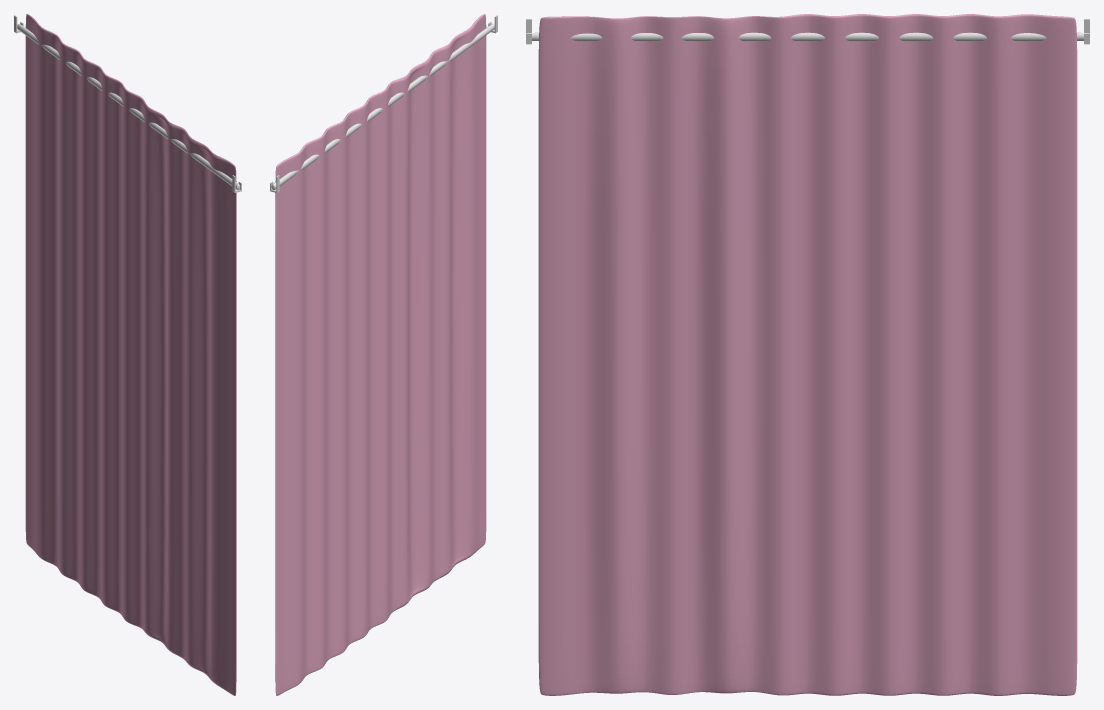
File: Curtain.fbx
3 renders of one model, left to right at view 1: azimuth 30°, elevation 25°; view 2: azimuth 150°, elevation 25°; view 3: azimuth 270°, elevation 25°, orthographic. The views are drawn at different scales.
Visible parts, largest first — view 1: Plane.002, Cylinder; view 2: Plane.002, Cylinder; view 3: Plane.002, Cylinder.
Boxes of the visible parts, x1,y1,x2,y2 form: Plane.002: [25, 14, 236, 695]; Cylinder: [17, 24, 240, 189]; Plane.002: [275, 14, 486, 695]; Cylinder: [271, 23, 494, 189]; Plane.002: [538, 14, 1077, 695]; Cylinder: [527, 32, 1088, 40].
Bounding box in the file's own units: 5.03 × 254 × 191.
